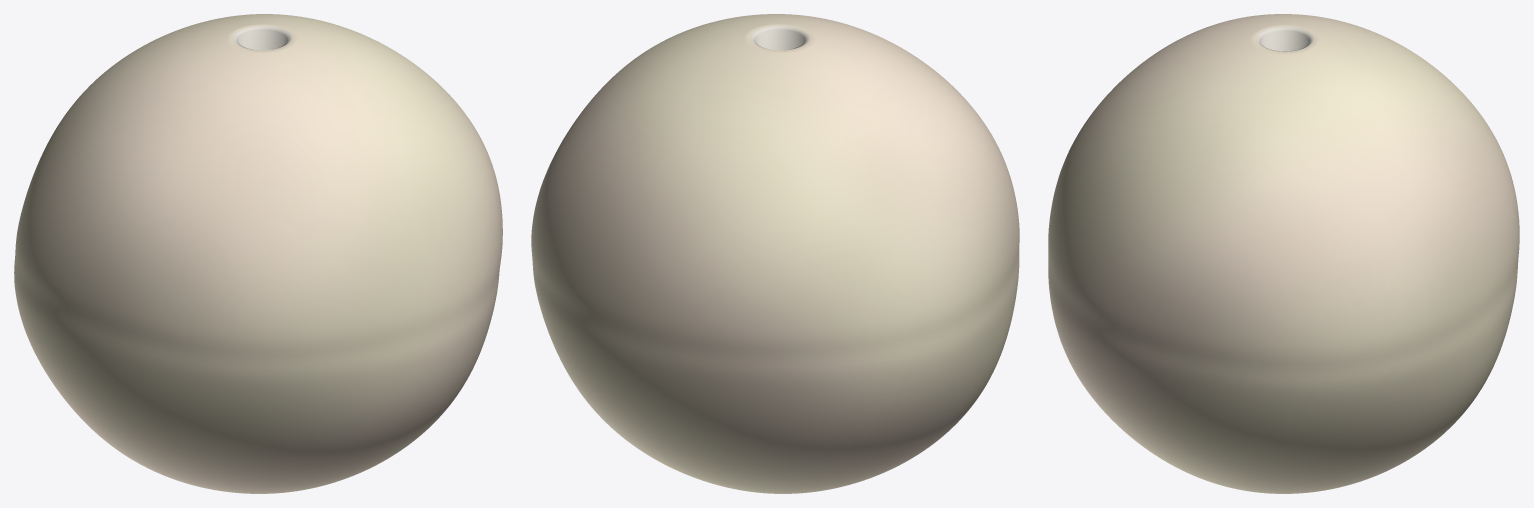
File: pearl-ref-07.glb
3 views of the same model, side by side, from view 1: azimuth 30°, elevation 25°; view 2: azimuth 150°, elevation 25°; view 3: azimuth 270°, elevation 25° (orthographic).
Parts seen in each view (by area): view 1: pearl-ref-07; view 2: pearl-ref-07; view 3: pearl-ref-07.
Part boxes in pixels (x1,y1,x2,y2): pearl-ref-07: [14, 14, 502, 493]; pearl-ref-07: [531, 14, 1019, 493]; pearl-ref-07: [1048, 14, 1519, 493].
Size of the model in its own units: 0.00801 by 0.00774 by 0.0077.
Materials: 2 (1 with a texture image).
